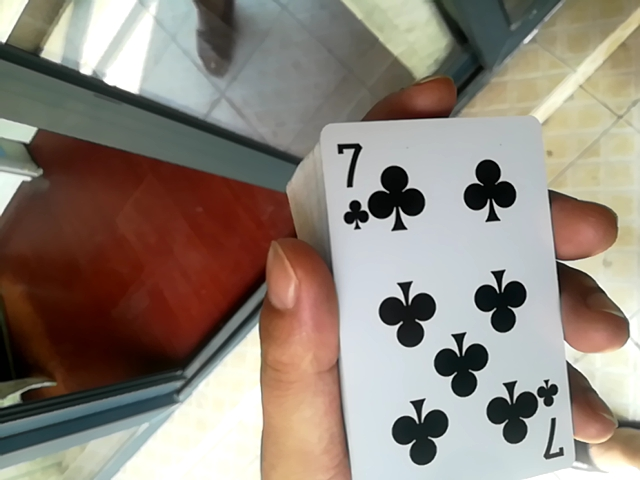mh 7: (293, 124, 604, 475)
